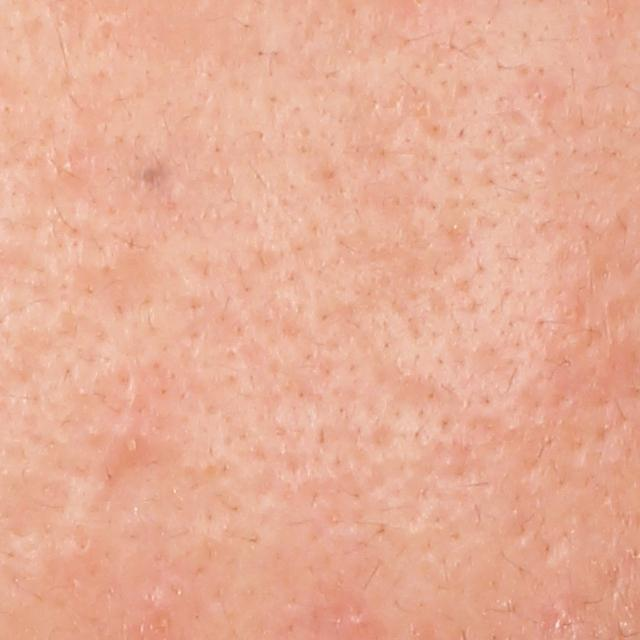comedo: (134, 155, 167, 191), (59, 154, 82, 181)
